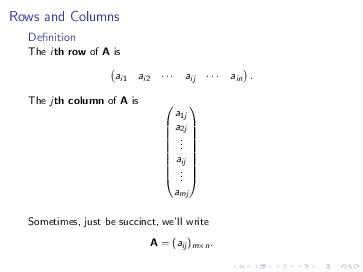paragraph: (22, 29, 331, 259)
title: (4, 8, 122, 26)
